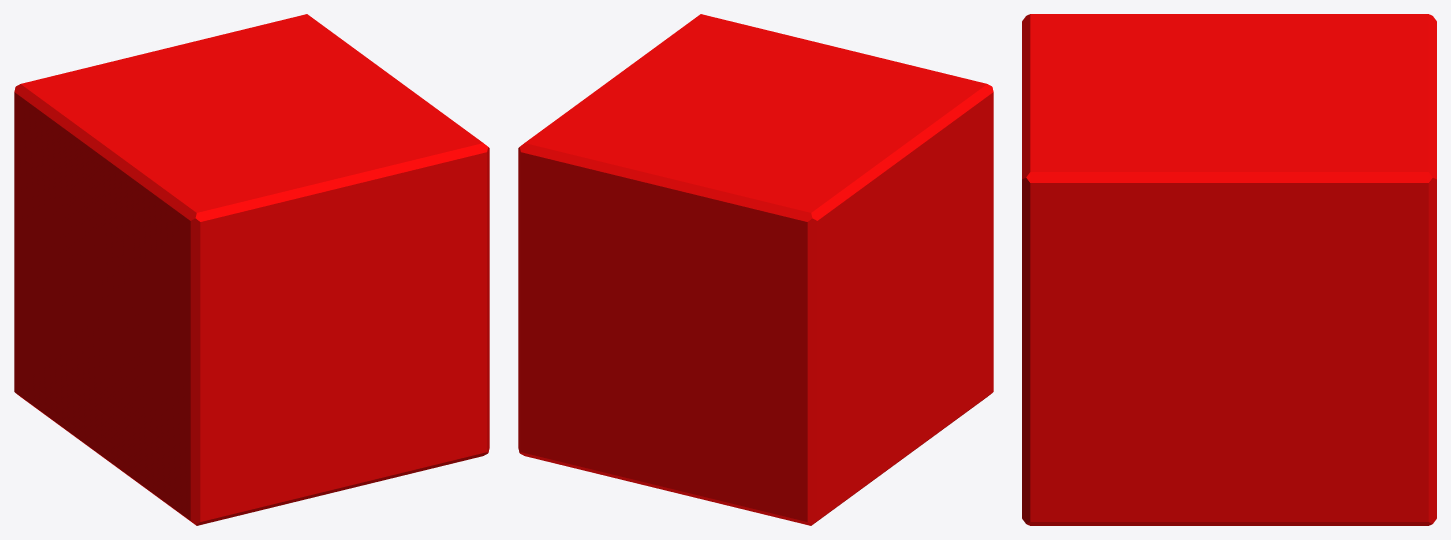
Rendered from StartKey.fbx.
The picture shows the model from 3 angles, left to right: view 1: azimuth 30°, elevation 25°; view 2: azimuth 150°, elevation 25°; view 3: azimuth 270°, elevation 25°; orthographic projection. The views are drawn at different scales.
Parts seen in each view (by area): view 1: startKey001; view 2: startKey001; view 3: startKey001.
Part boxes in pixels (x1,y1,x2,y2): startKey001: (14,14,489,525); startKey001: (518,14,993,525); startKey001: (1022,14,1436,525).
Bounding box in the file's own units: 9.6 × 10.2 × 9.6.
